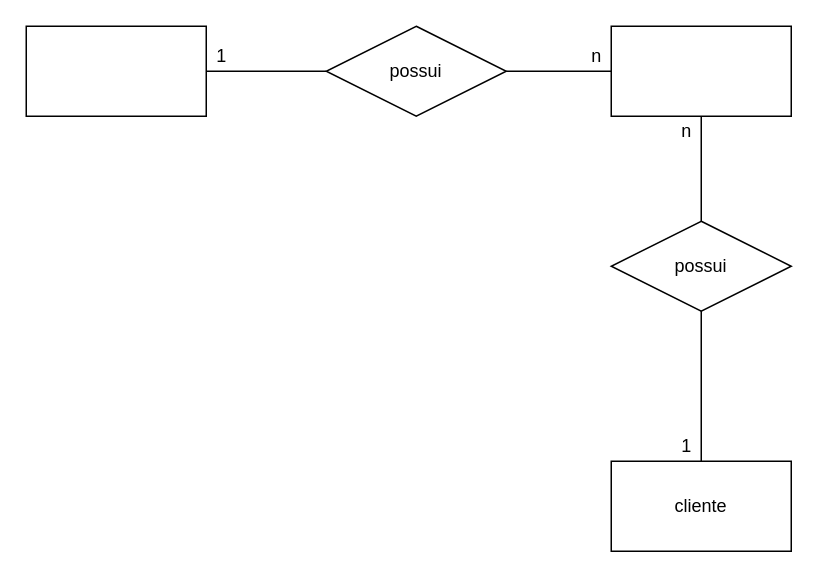
Some shapes in this 818 by 578 pixel diagram are drawn without their labels. The centre of each missing label's shape, as x and y in pixels:
"empresa" belongs at point 115,70.
"veiculos" belongs at point 700,70.
